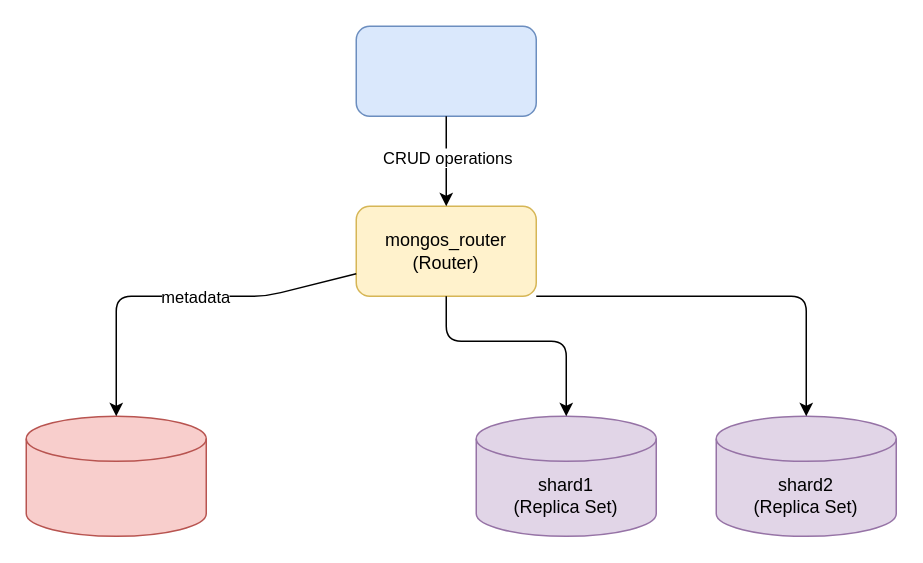
The diagram is 923 pixels wide and 563 high, and some of its shapes have lost their labels. Each missing label, with the box of its shape:
configSrv (Config Server Replica Set): (25, 415, 206, 536)
pymongo_api (App Instance): (355, 25, 536, 116)
